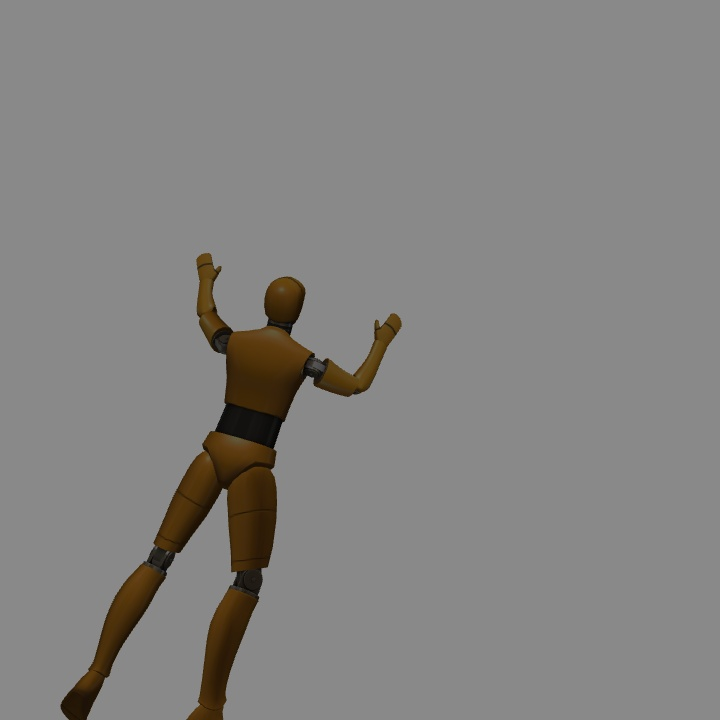victim: (193, 251, 376, 720)
